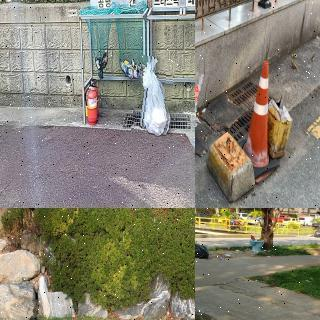Garbage: (133, 57, 175, 141), (195, 71, 206, 137), (195, 241, 213, 261), (27, 312, 42, 320)
